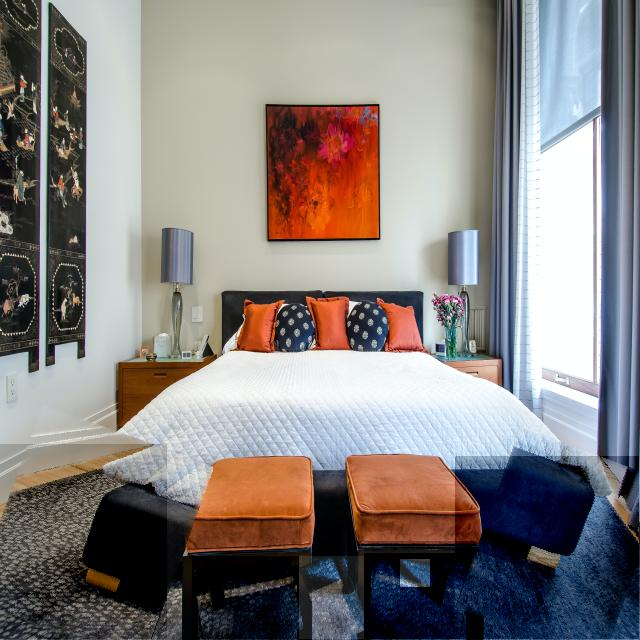floor: (455, 456, 640, 640), (0, 444, 167, 640), (365, 553, 471, 640), (192, 557, 302, 640), (299, 556, 370, 639), (401, 559, 430, 587)
